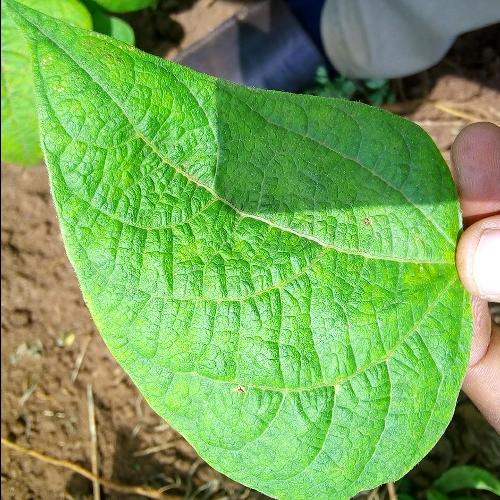hawar: (72, 68, 432, 446)
